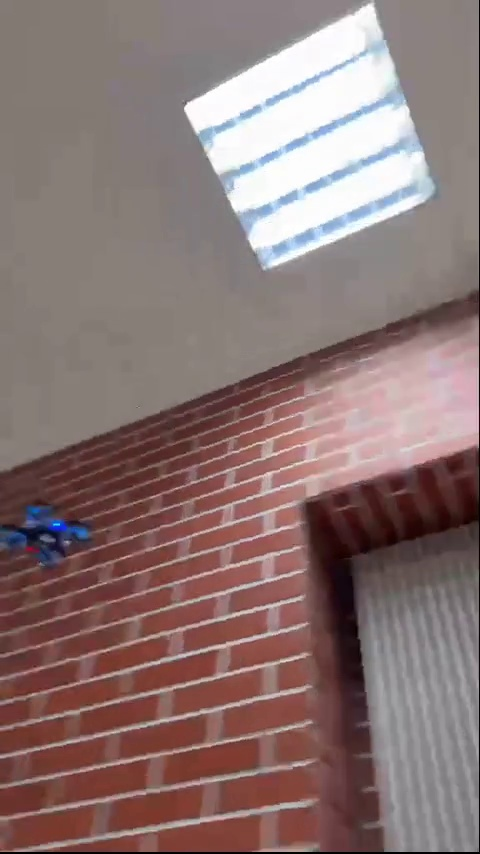drone: (6, 500, 90, 569)
